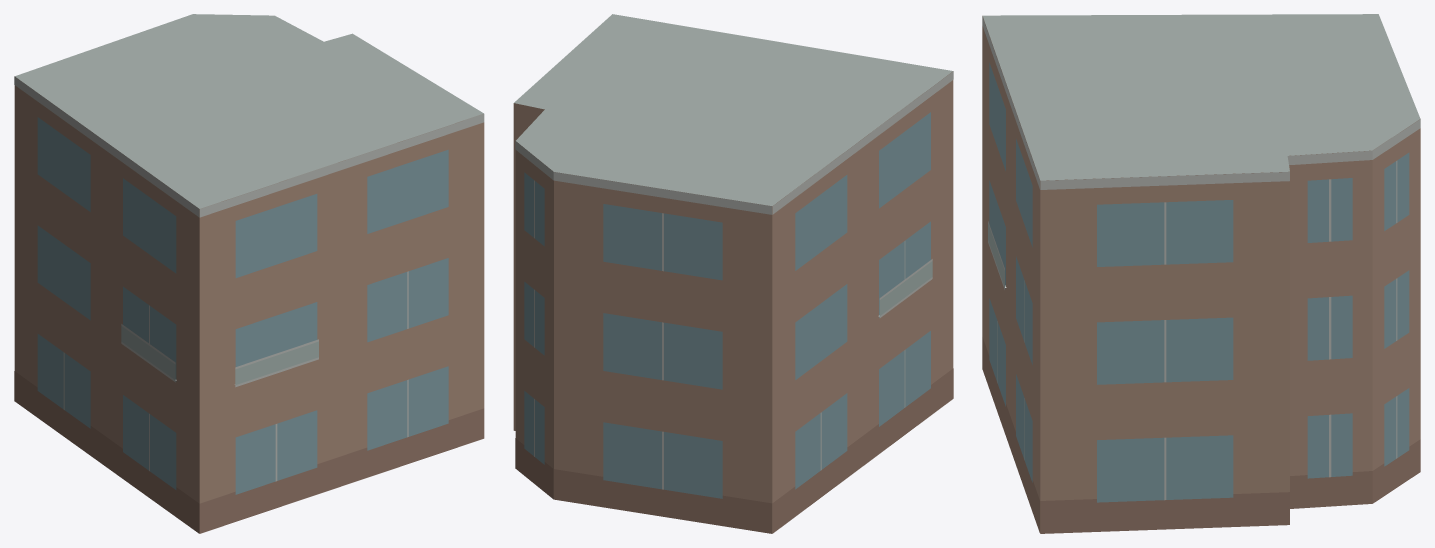
Rendered from survey-upis-32525303.glb.
3 renders of one model, left to right at view 1: azimuth 30°, elevation 25°; view 2: azimuth 150°, elevation 25°; view 3: azimuth 270°, elevation 25°, orthographic. The views are drawn at different scales.
Parts seen in each view (by area): view 1: survey-upis-32525303.tmp; view 2: survey-upis-32525303.tmp; view 3: survey-upis-32525303.tmp.
Boxes of the visible parts, x1,y1,x2,y2 form: survey-upis-32525303.tmp: [14, 14, 484, 533]; survey-upis-32525303.tmp: [513, 14, 953, 533]; survey-upis-32525303.tmp: [982, 14, 1420, 533].
Bounding box in the file's own units: 9.27 × 9.15 × 10.3.
